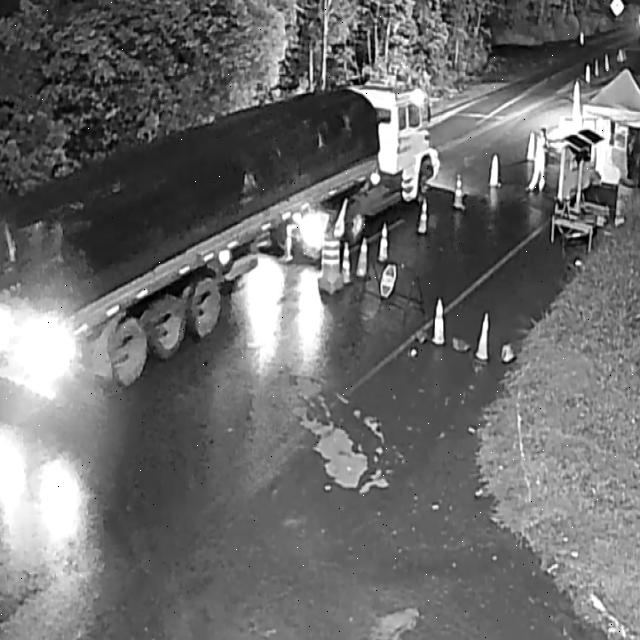big_cone: (321, 229, 339, 296)
small_cone: (477, 309, 493, 368), (432, 297, 447, 348), (377, 219, 393, 265), (357, 237, 371, 278), (416, 191, 429, 235), (453, 172, 465, 214), (343, 239, 353, 285), (489, 152, 501, 190)
